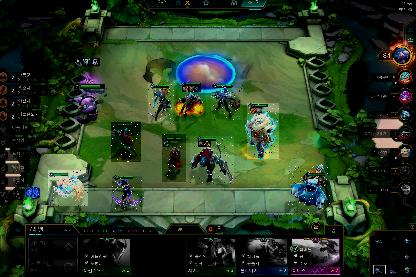2_diana: (162, 134, 186, 182)
2_leesin: (148, 84, 174, 124)
2_nunu: (288, 166, 330, 212)
2_olaf: (176, 84, 206, 118)
2_rengar: (190, 136, 234, 184)
2_seraphine: (48, 170, 88, 206)
2_sylas: (211, 84, 243, 120)
2_varus: (112, 176, 142, 212)
2_volibear: (247, 103, 279, 159)
2_zeri: (111, 122, 141, 162)
